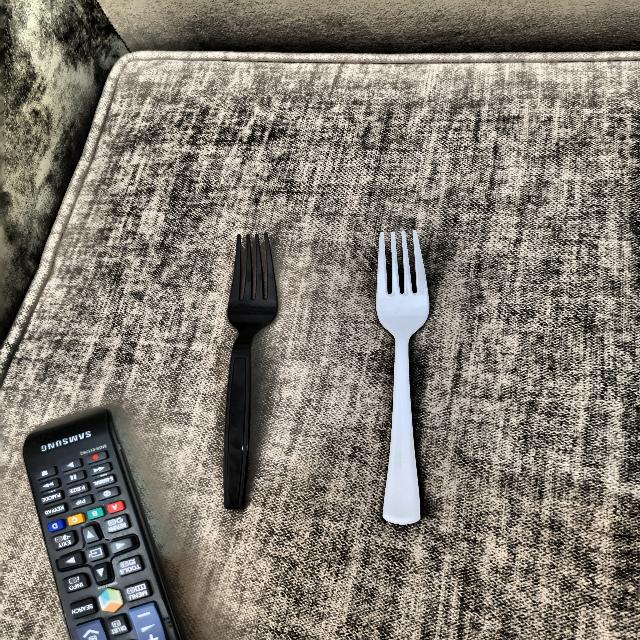plastic utensil: (212, 227, 282, 508), (371, 229, 434, 524)
